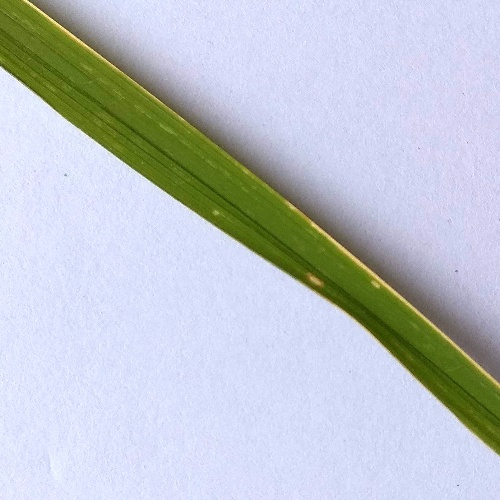Busuk Leher: (299, 265, 327, 292), (369, 272, 387, 292)
